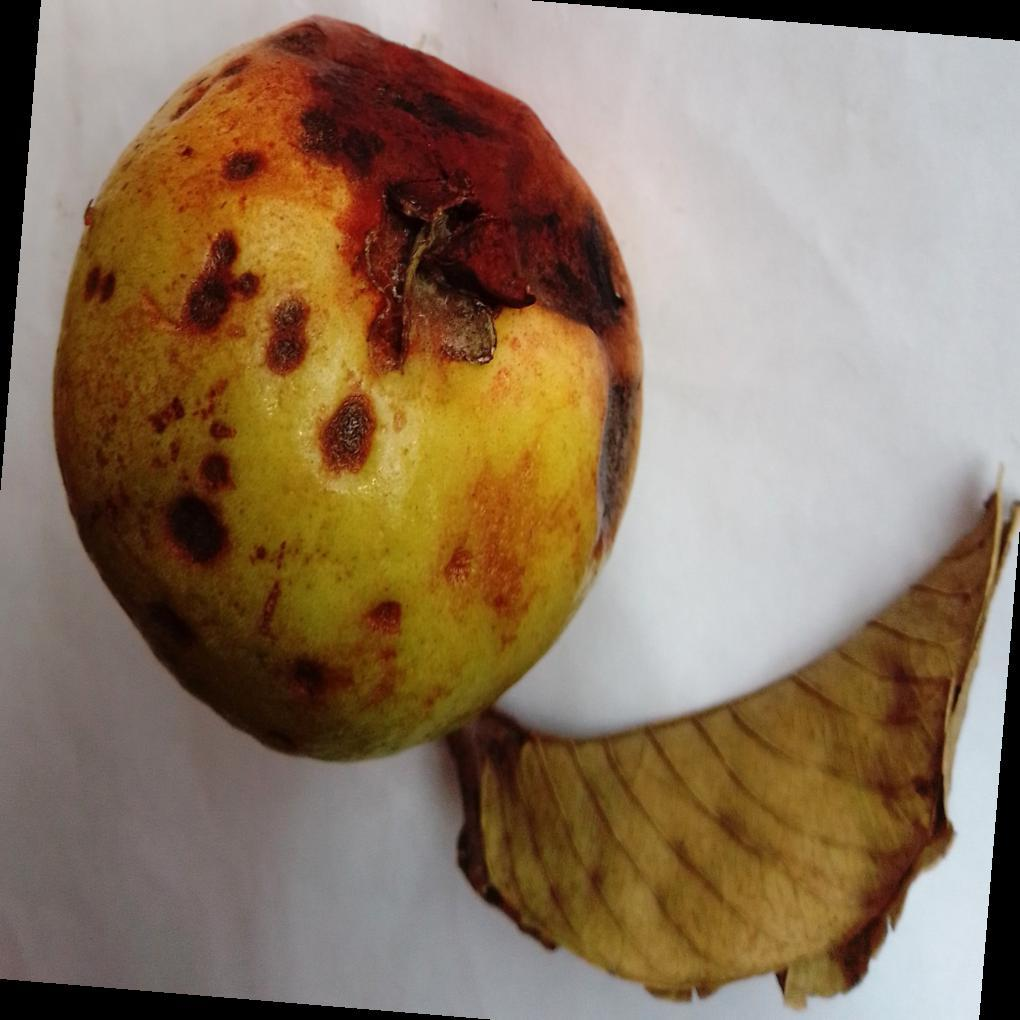FreshOrange: (51, 17, 645, 768)
